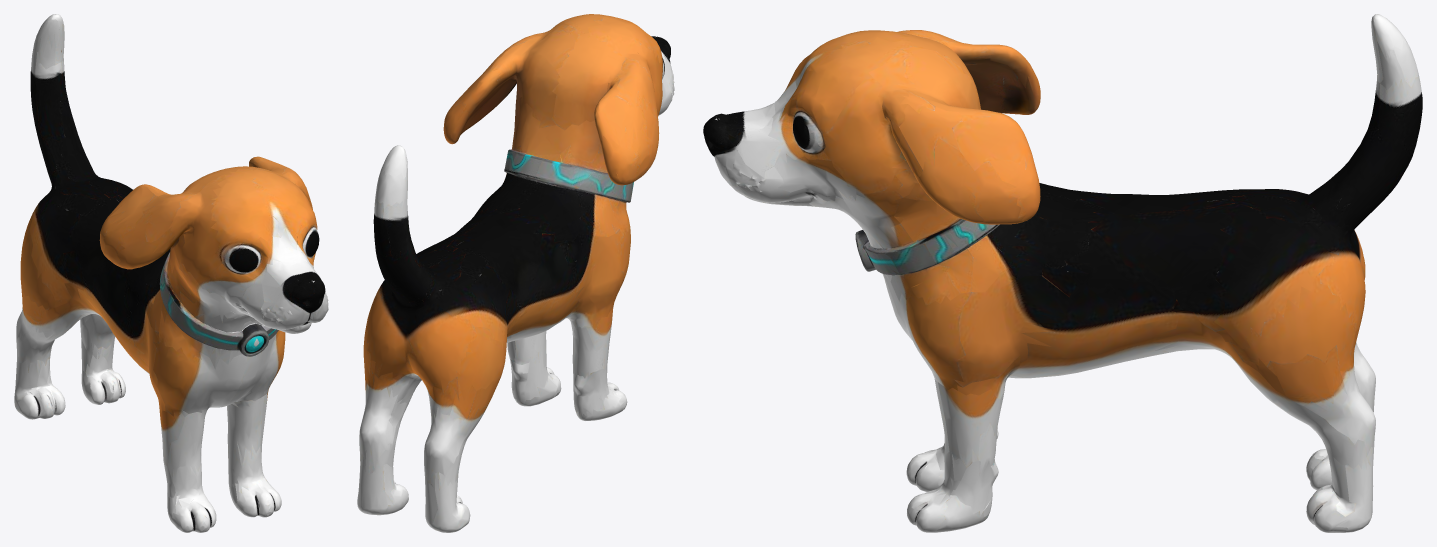
File: nemo.glb
3 views of the same model, side by side, from view 1: azimuth 30°, elevation 25°; view 2: azimuth 150°, elevation 25°; view 3: azimuth 270°, elevation 25° (orthographic). The views are drawn at different scales.
Size of the model in its own units: 0.7435 by 1.43 by 1.9.
1 material, 1 textured.
